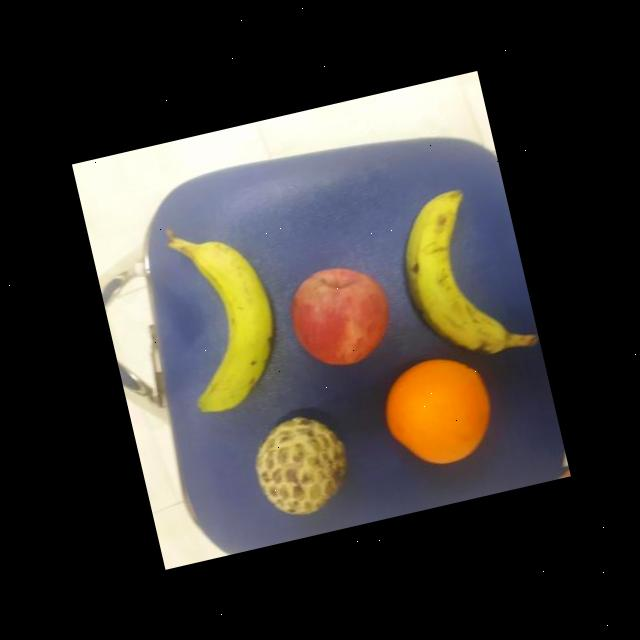Sakya fruit: (241, 405, 357, 526)
apple: (276, 253, 402, 377)
banana: (153, 214, 291, 419), (381, 180, 521, 374)
orange: (371, 347, 501, 476)
